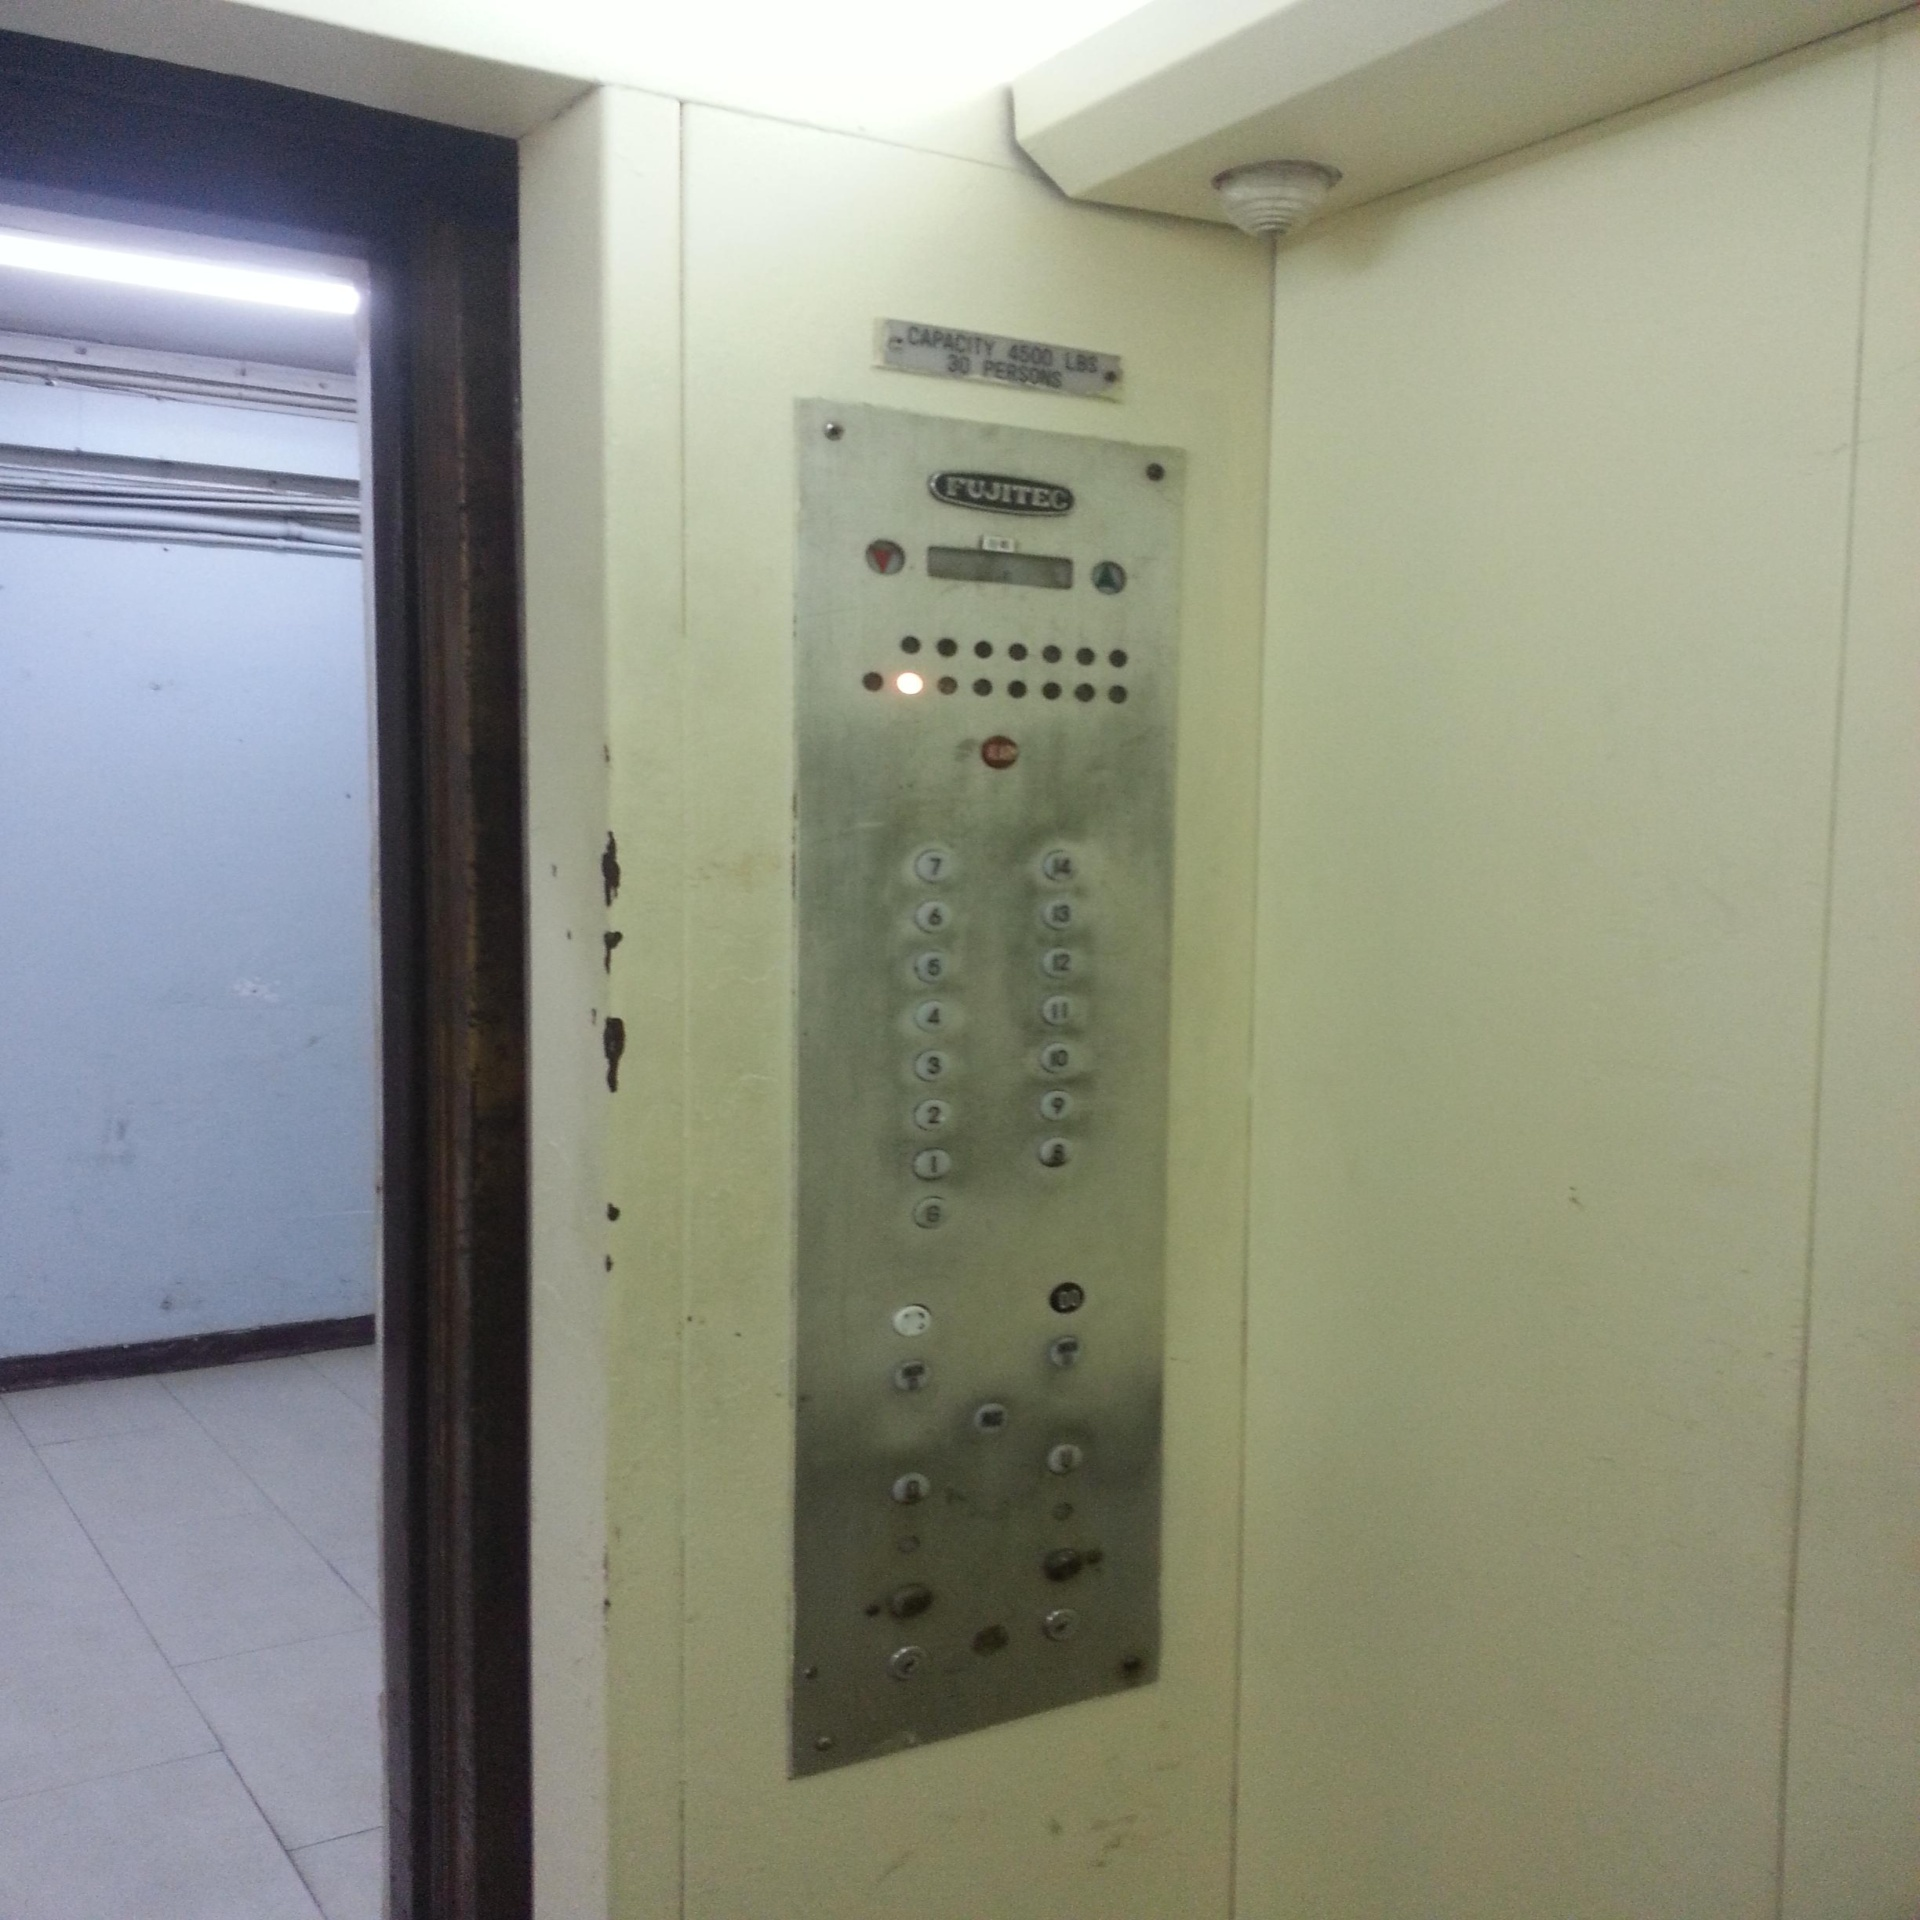1: (911, 1148, 956, 1182)
10: (1039, 1043, 1074, 1073)
11: (1043, 993, 1076, 1025)
12: (1043, 946, 1078, 978)
13: (1043, 900, 1078, 927)
14: (1043, 849, 1080, 883)
2: (913, 1097, 951, 1131)
3: (913, 1050, 953, 1083)
4: (914, 1000, 951, 1034)
5: (914, 951, 955, 983)
6: (913, 900, 951, 932)
7: (914, 847, 955, 884)
9: (1041, 1090, 1076, 1120)
G: (913, 1196, 949, 1227)
blur: (890, 1582, 934, 1621), (890, 1303, 937, 1336), (1039, 1545, 1080, 1584), (891, 1472, 935, 1507), (1048, 1282, 1087, 1319), (1050, 1335, 1085, 1371), (1044, 1444, 1085, 1475), (972, 1401, 1009, 1435), (893, 1361, 928, 1393), (1037, 1138, 1074, 1167)
down: (863, 536, 907, 578)
indicator: (895, 670, 925, 696), (897, 631, 925, 656), (934, 635, 960, 659), (862, 668, 886, 695), (972, 636, 995, 661), (935, 673, 960, 696), (1004, 679, 1029, 700), (1006, 642, 1029, 663), (1074, 680, 1095, 703), (1043, 644, 1064, 665), (1108, 684, 1129, 705), (1076, 645, 1095, 666), (1109, 647, 1129, 668), (1041, 680, 1060, 700), (972, 679, 993, 696)
keyhole: (1043, 1605, 1081, 1644), (886, 1646, 928, 1681)
text_ALARM: (979, 731, 1020, 768)
up: (1092, 557, 1129, 598)
